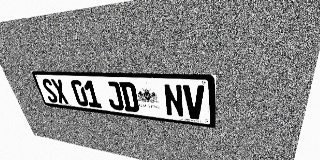0: (69, 80, 89, 107)
1: (82, 80, 102, 108)
D: (119, 82, 140, 113)
J: (104, 81, 125, 111)
N: (163, 84, 185, 118)
S: (40, 78, 59, 103)
V: (183, 85, 205, 120)
X: (50, 79, 70, 104)
